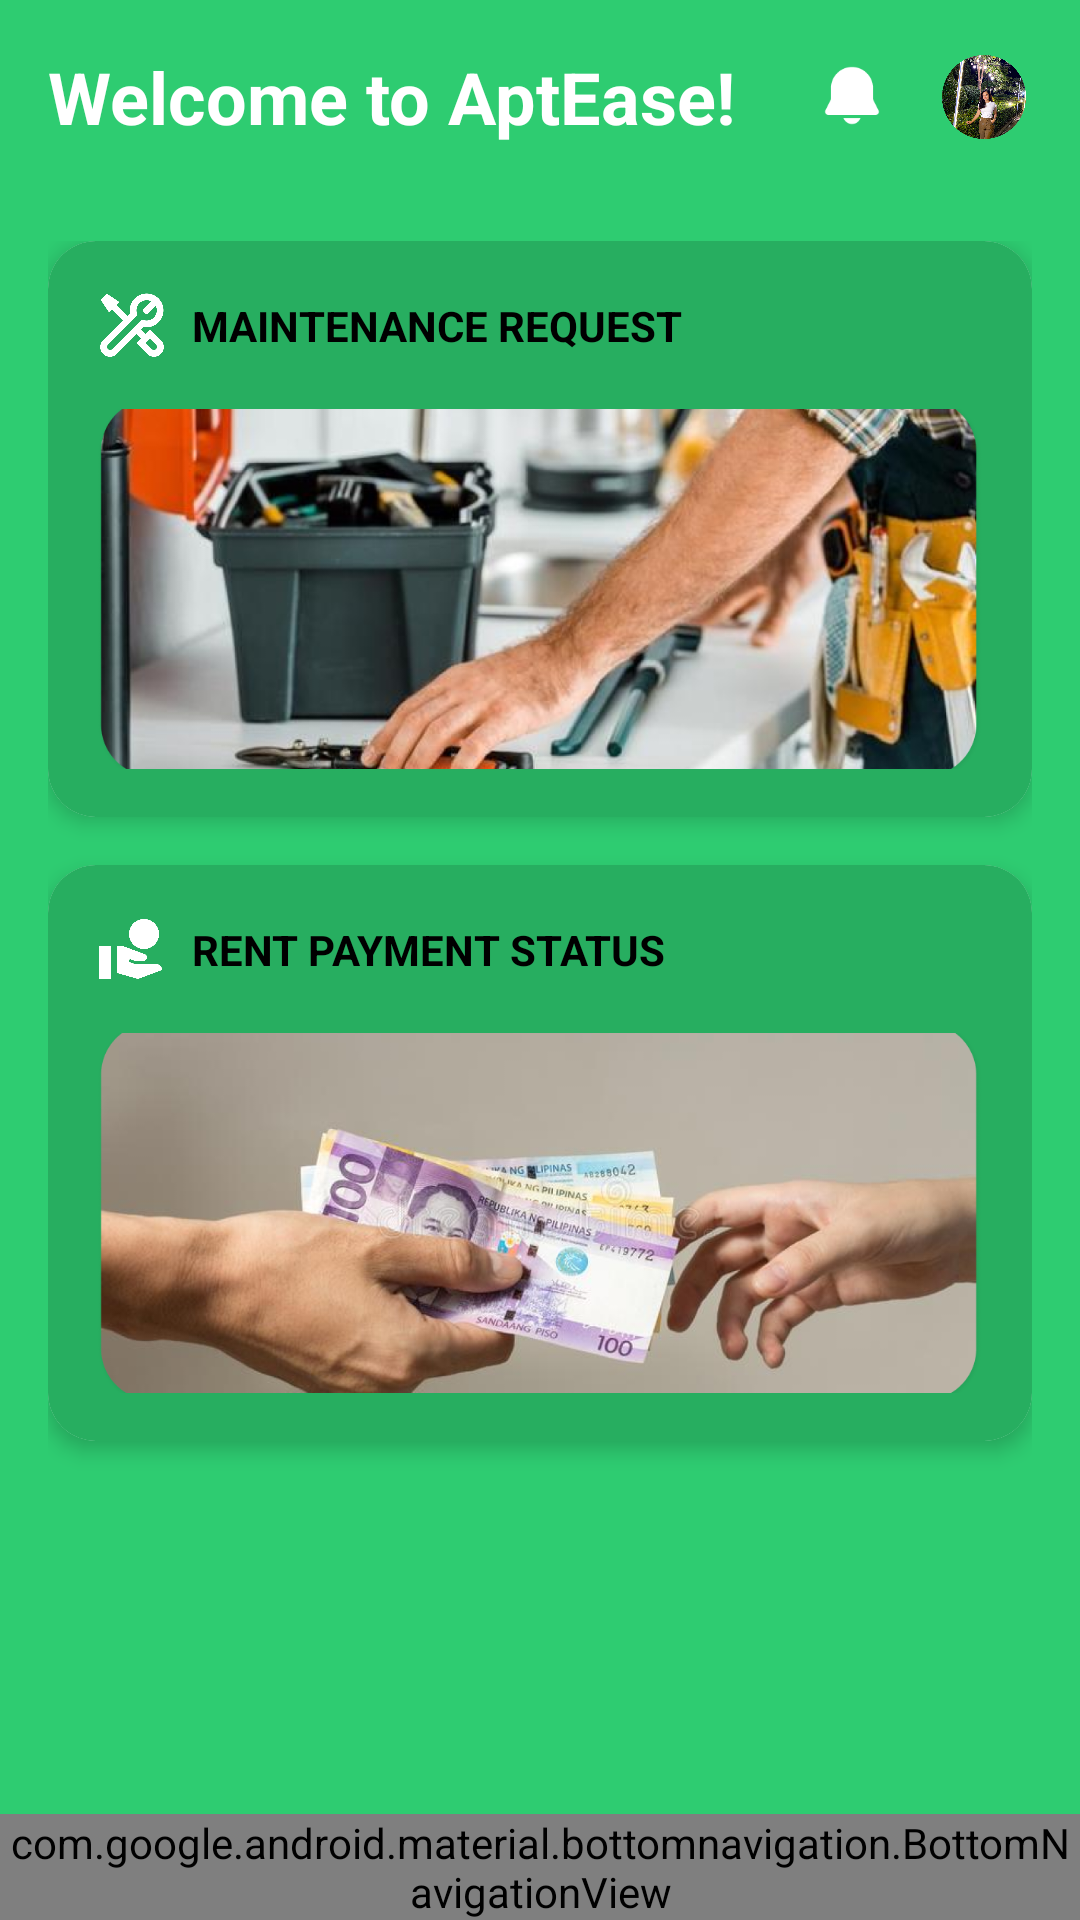

Icons on this 1080x1920 Android screen, each with its box as box(x1, y1, x2, y2):
Notifications: box(825, 67, 879, 125)
Profile: box(942, 55, 1026, 139)
